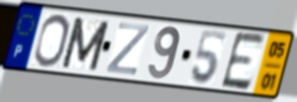5: (191, 27, 230, 88)
9: (147, 24, 181, 81)
E: (218, 30, 268, 93)
M: (59, 15, 112, 74)
O: (32, 13, 71, 70)
Z: (103, 20, 152, 77)
